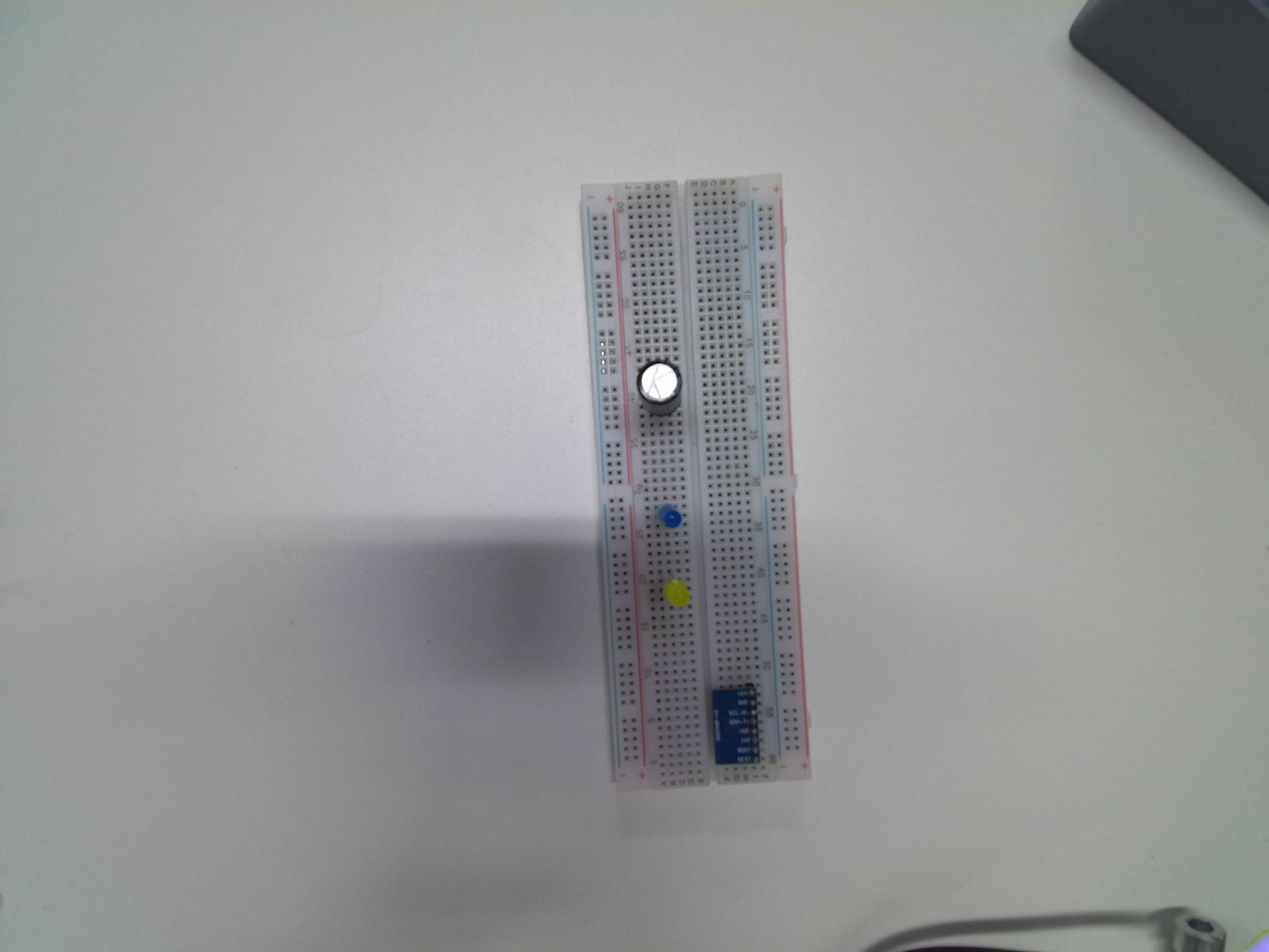base: (575, 170, 814, 796)
blue-board: (706, 677, 764, 772)
blue-led: (654, 499, 688, 533)
capacitor: (635, 358, 683, 413)
yellow-led: (654, 574, 697, 614)
